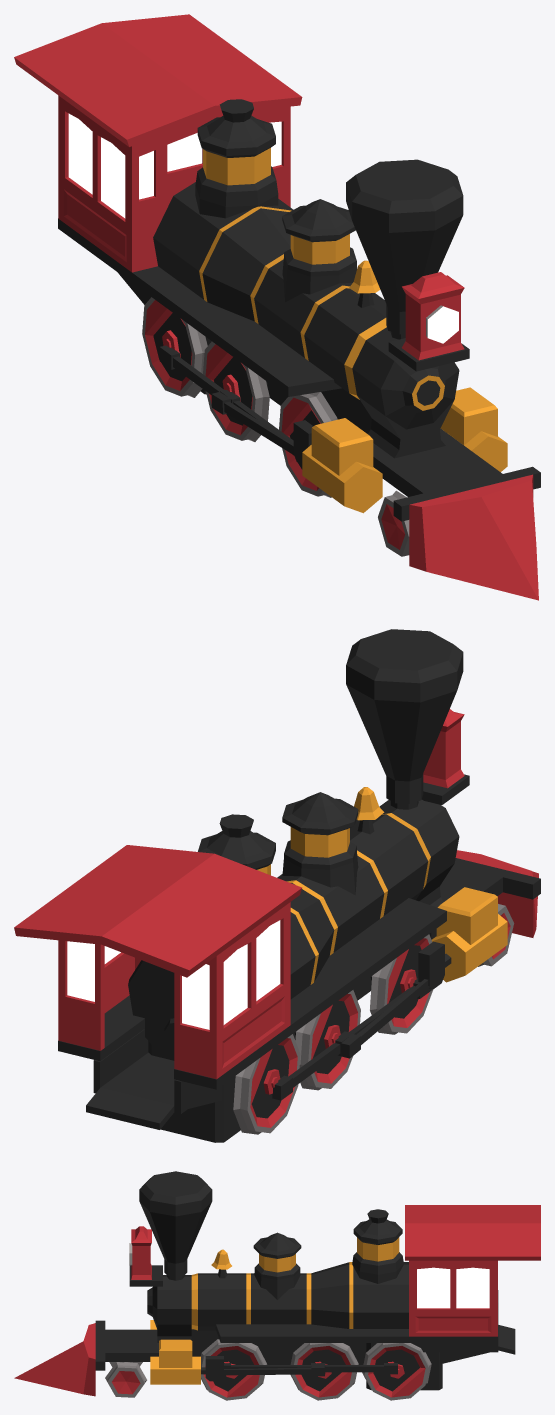
Rendered from vehicles-locomotive-western.glb.
3 views of the same model, one above another, from view 1: azimuth 30°, elevation 25°; view 2: azimuth 150°, elevation 25°; view 3: azimuth 270°, elevation 25° (orthographic). The views are drawn at different scales.
Visible parts, largest first — view 1: locomotive-western-base, locomotive-wheel4, locomotive-wheel3, locomotive-wheel2, con-rod_L, locomotive-wheel1, drive-rod_BL; view 2: locomotive-western-base, locomotive-wheel4, locomotive-wheel3, locomotive-wheel2, con-rod_L, drive-rod_BL, drive-rod_FL, locomotive-bell-western; view 3: locomotive-western-base, locomotive-wheel4, locomotive-wheel3, locomotive-wheel2, locomotive-wheel1, con-rod_R, drive-rod_BR, drive-rod_FR.
Boxes of the visible parts, x1,y1,x2,y2 form: locomotive-western-base: (14, 14, 540, 600); locomotive-wheel4: (142, 297, 207, 397); locomotive-wheel3: (203, 341, 269, 441); locomotive-wheel2: (279, 392, 337, 497); con-rod_L: (159, 345, 293, 455); locomotive-wheel1: (378, 490, 409, 556); drive-rod_BL: (211, 392, 293, 454); locomotive-western-base: (14, 629, 540, 1142); locomotive-wheel4: (233, 1034, 300, 1134); locomotive-wheel3: (294, 990, 360, 1090); locomotive-wheel2: (370, 934, 432, 1034); con-rod_L: (272, 978, 431, 1100); drive-rod_BL: (341, 979, 429, 1058); drive-rod_FL: (418, 941, 451, 989); locomotive-bell-western: (354, 787, 384, 820); locomotive-western-base: (14, 1171, 540, 1396); locomotive-wheel4: (362, 1343, 431, 1400); locomotive-wheel3: (290, 1343, 358, 1400); locomotive-wheel2: (200, 1339, 267, 1400); locomotive-wheel1: (105, 1362, 146, 1397); con-rod_R: (224, 1363, 397, 1374); drive-rod_BR: (224, 1365, 324, 1376); drive-rod_FR: (201, 1356, 223, 1381).
Size of the model in its own units: 2.72 by 5.01 by 11.74.
